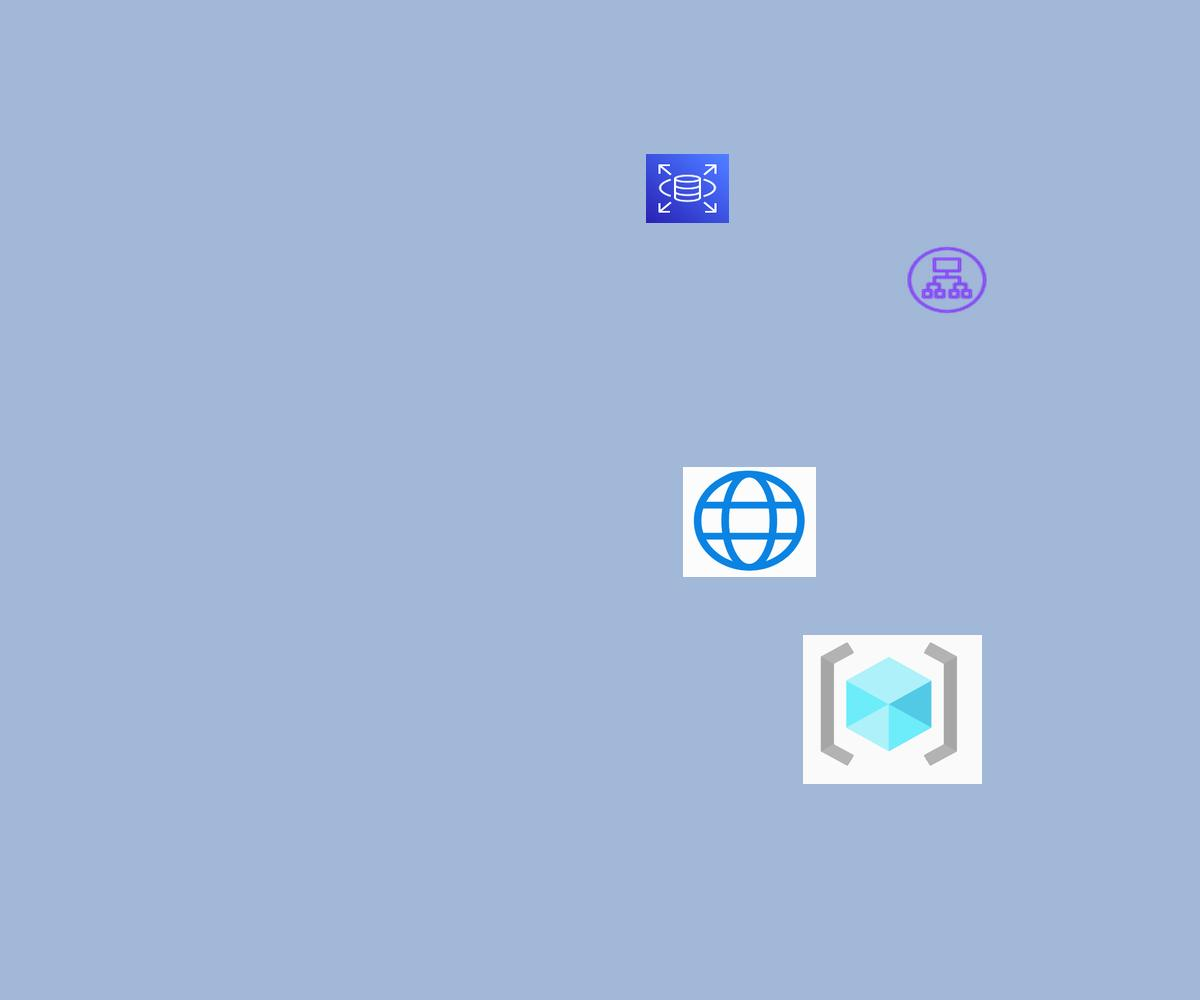AWS-RDS: (646, 154, 729, 223)
AWS-Res_Elastic-Load-Balancing_Application-Load-Balancer: (904, 244, 990, 316)
Azure_http: (683, 467, 816, 577)
Azure_resource_group: (803, 635, 982, 784)
